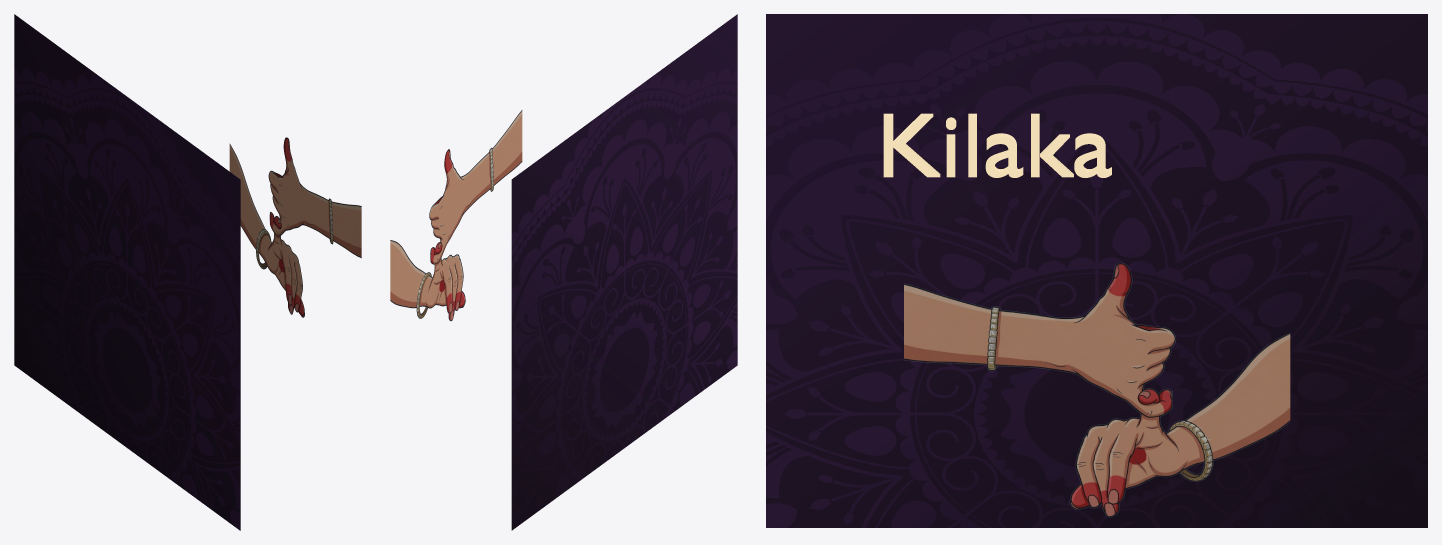
Rendered from Kilaka.glb.
3 renders of one model, left to right at view 1: azimuth 30°, elevation 25°; view 2: azimuth 150°, elevation 25°; view 3: azimuth 270°, elevation 25°, orthographic. The views are drawn at different scales.
Parts seen in each view (by area): view 1: Plane.014, Anjali.014; view 2: Plane.014, Anjali.014; view 3: Plane.014, Anjali.014, Text.036.
Boxes of the visible parts, <box> form: Plane.014: <box>14,14,240,530</box>; Anjali.014: <box>229,137,361,317</box>; Plane.014: <box>511,14,737,530</box>; Anjali.014: <box>390,110,522,321</box>; Plane.014: <box>766,14,1427,527</box>; Anjali.014: <box>904,262,1290,517</box>; Text.036: <box>883,113,1111,177</box>.
Size of the model in its own units: 1.53 by 3.05 by 3.56.
Materials: 3 (2 with a texture image).
